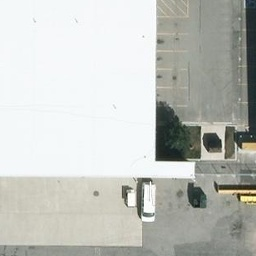car: (137, 180, 160, 222)
